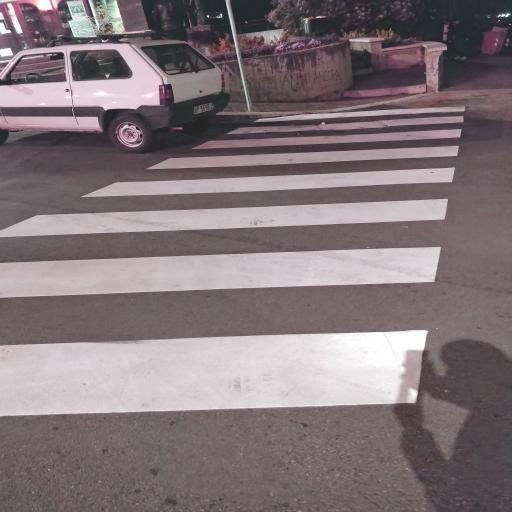crosswalk: (1, 242, 449, 420), (73, 142, 464, 200)
